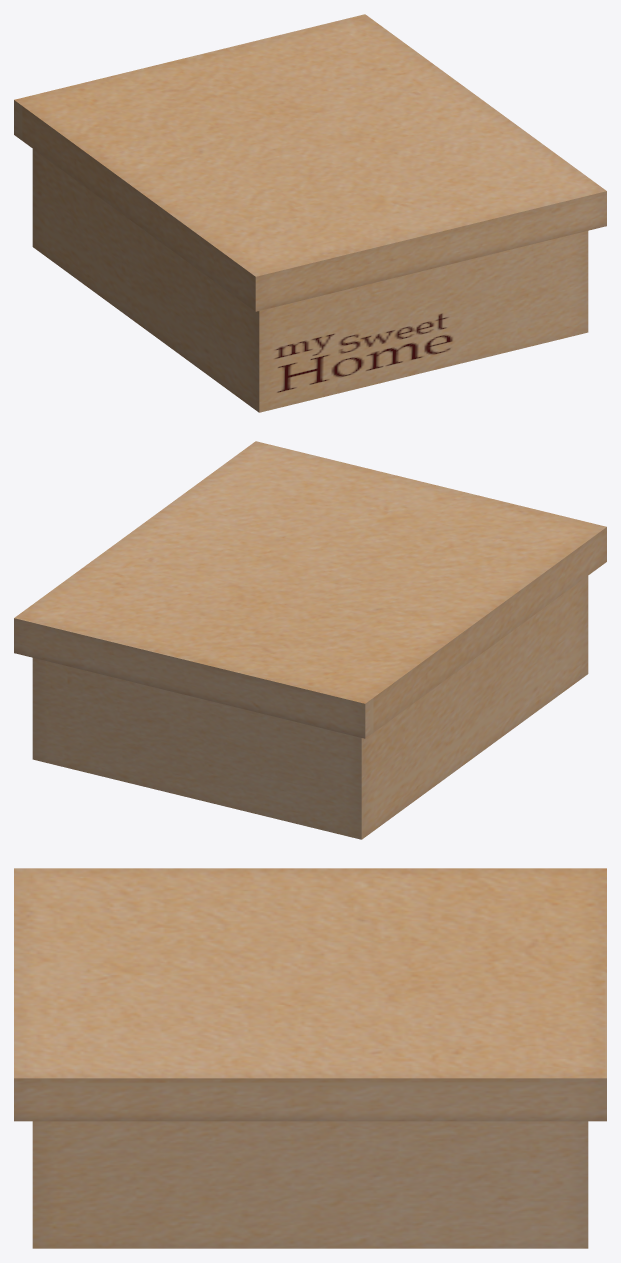
The picture shows the model from 3 angles, top to bottom: view 1: azimuth 30°, elevation 25°; view 2: azimuth 150°, elevation 25°; view 3: azimuth 270°, elevation 25°; orthographic projection. The views are drawn at different scales.
Parts seen in each view (by area): view 1: Box02; view 2: Box02; view 3: Box02.
Part boxes in pixels (bbox=[...]): Box02: bbox=[14, 14, 606, 412]; Box02: bbox=[14, 441, 606, 839]; Box02: bbox=[14, 868, 606, 1248].
Size of the model in its own units: 11.9 by 4.67 by 14.19.
